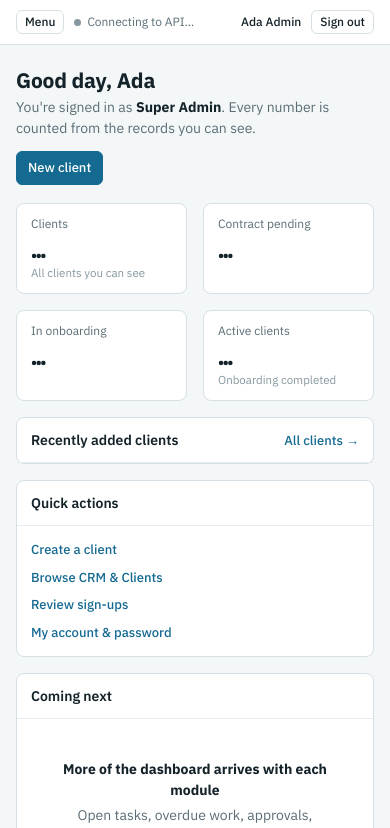
app shell › toggles the mobile menu
The width and height of the screenshot is (390, 828).
Click the button "Menu" at (40, 22), box x1=16 y1=10 x2=64 y2=34
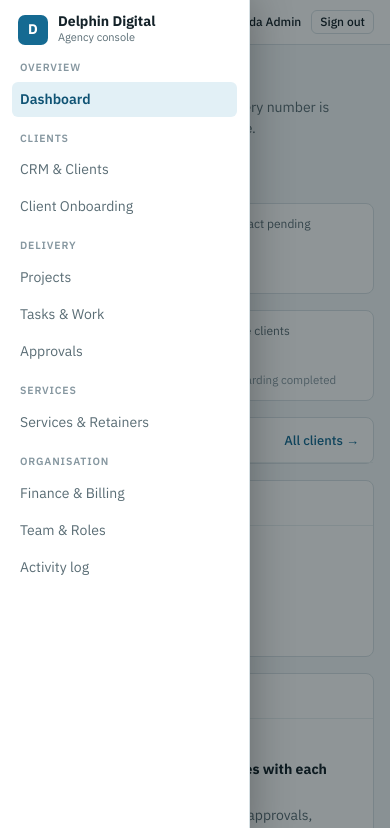
Expected: the button "Menu" is expanded, x1=16 y1=10 x2=64 y2=34
